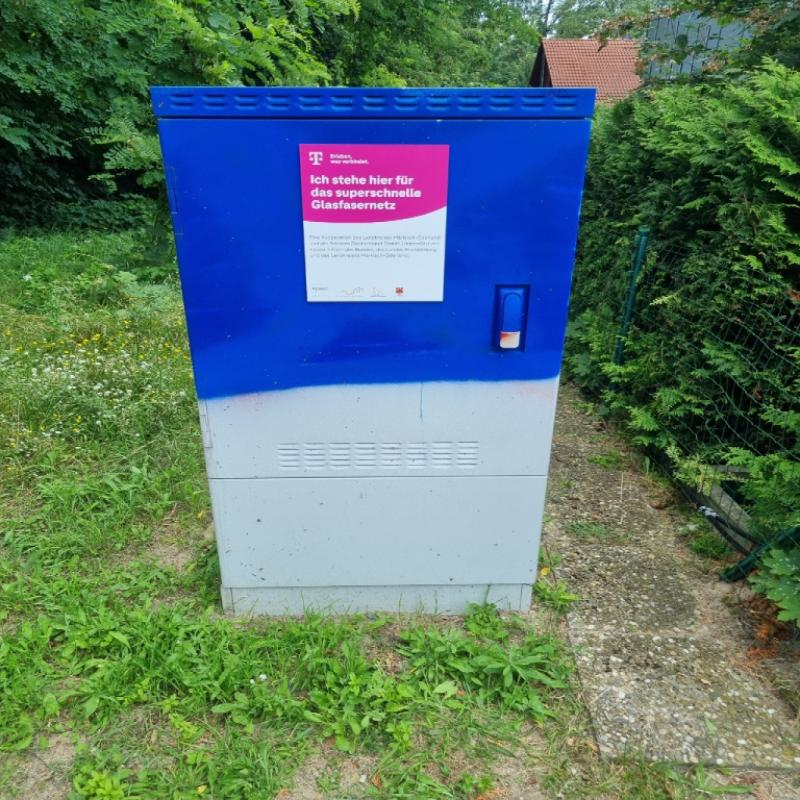NT-Gehause: (150, 87, 596, 613)
Steaker: (294, 143, 451, 304)
